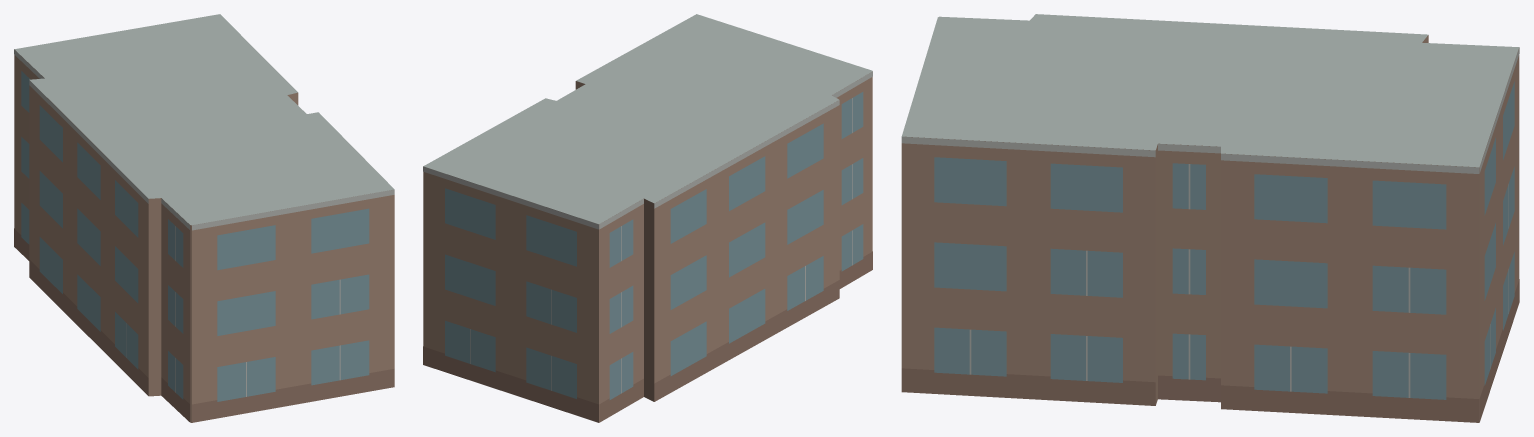
File: survey-upis-32758241.glb
3 views of the same model, side by side, from view 1: azimuth 30°, elevation 25°; view 2: azimuth 150°, elevation 25°; view 3: azimuth 270°, elevation 25° (orthographic). The views are drawn at different scales.
Visible parts, largest first — view 1: survey-upis-32758241.tmp; view 2: survey-upis-32758241.tmp; view 3: survey-upis-32758241.tmp.
Boxes of the visible parts, x1=… form: survey-upis-32758241.tmp: x1=14, y1=14, x2=394, y2=422; survey-upis-32758241.tmp: x1=423, y1=14, x2=872, y2=422; survey-upis-32758241.tmp: x1=901, y1=14, x2=1519, y2=422.
Bounding box in the file's own units: 11.78 × 9.15 × 20.05.
